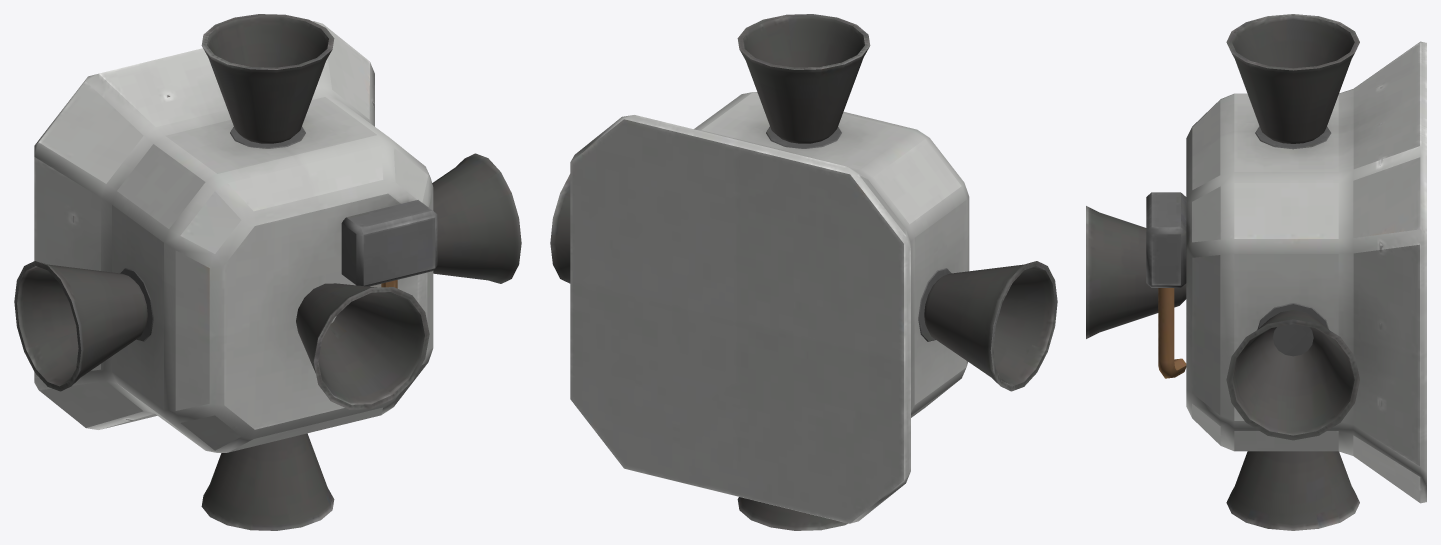
The model's file is rcs.glb.
3 renders of one model, left to right at view 1: azimuth 30°, elevation 25°; view 2: azimuth 150°, elevation 25°; view 3: azimuth 270°, elevation 25°, orthographic.
Visible parts, largest first — view 1: rcs; view 2: rcs; view 3: rcs.
Boxes of the visible parts, x1,y1,x2,y2 form: rcs: (14, 14, 521, 530); rcs: (550, 14, 1057, 530); rcs: (1086, 14, 1426, 530).
Size of the model in its own units: 0.76 by 0.76 by 0.51.
1 material, 1 textured.
